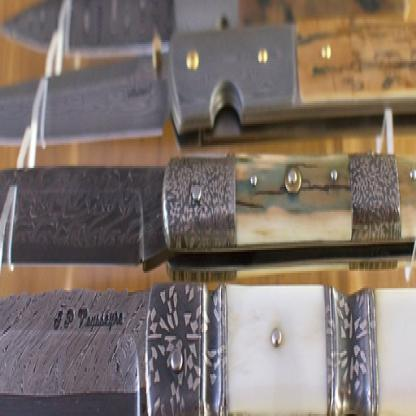knife: (0, 275, 415, 414), (0, 145, 415, 281), (0, 15, 415, 124), (0, 0, 415, 52)
